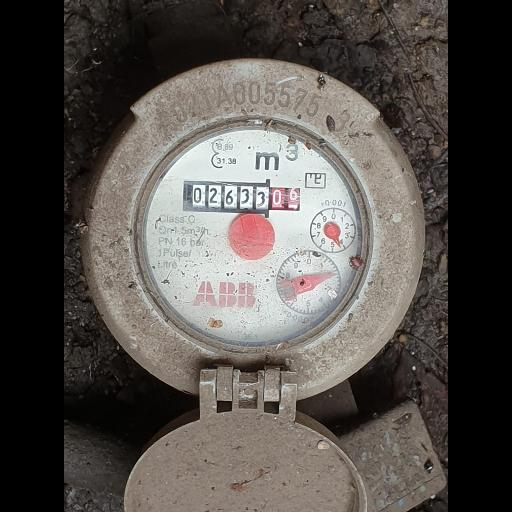0: (271, 188, 286, 211), (193, 184, 206, 208)
2: (209, 185, 222, 208)
3: (240, 186, 254, 210), (255, 186, 269, 210)
6: (225, 185, 238, 209), (287, 188, 299, 211)
border_water_meter_number: (182, 176, 300, 218)
